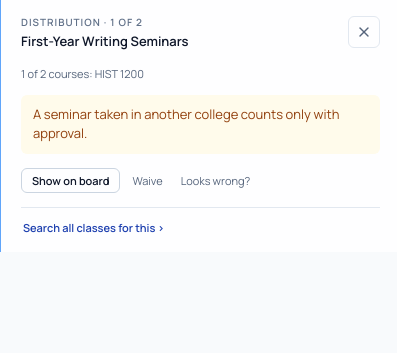
Scenario: RequirementPanel › the note on its amber tint; Looks wrong? opens the report form in the panel
This screenshot has width=397, height=353.
Check: the text "A seminar taken in another college counts only with approval." is shown, box [21,95,380,154]
Click the button "Looks wrong?". click: coordinates (216, 181)
box: [175,169,256,192]
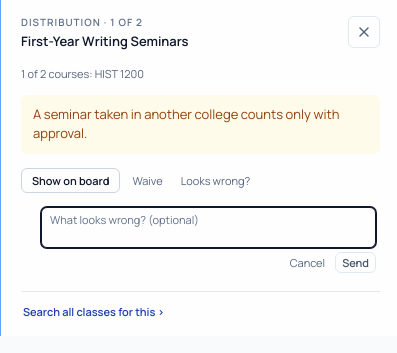
Check: the text box with placeholder "What looks wrong? (optional)" is shown, box [41,207,376,248]
